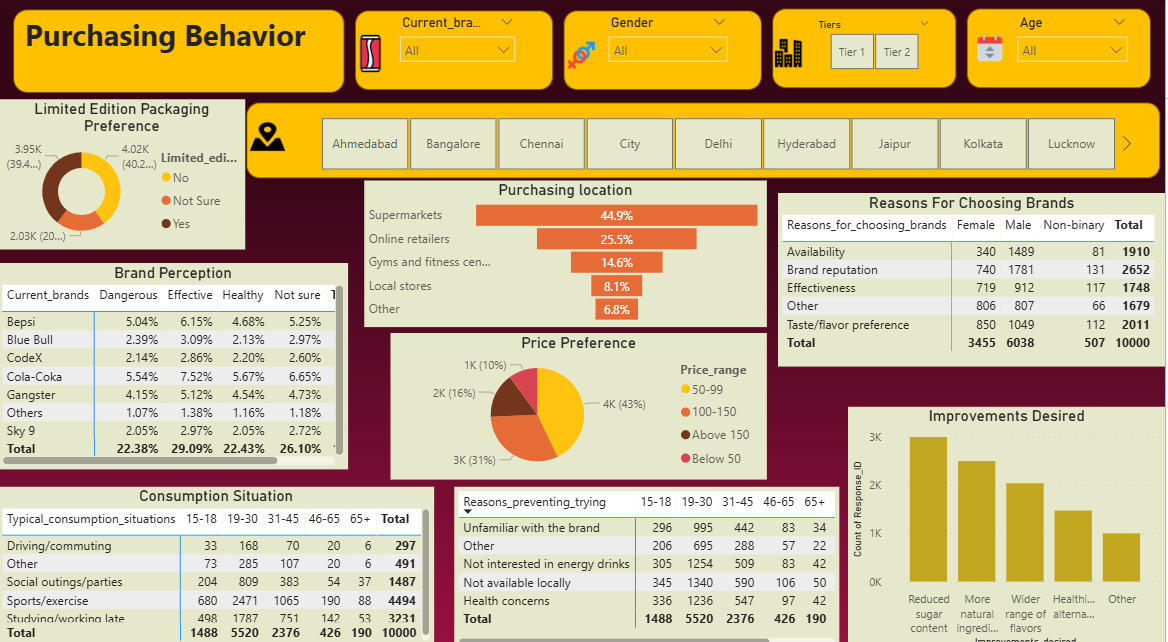

This screenshot's page, from the dashboard's own definition file:
{"tool":"powerbi","page":{"name":"Purchasing Behavior","canvas":[1280,720],"ordinal":3},"visuals":[{"type":"textbox","box":[24.7,13.7,334.5,76.8],"z":0},{"type":"slicer","fields":{"Values":["fact_survey_responses.Current_brands"]},"box":[430.5,13.7,146.7,76.8],"z":1000},{"type":"slicer","fields":{"Values":["dim_repondents.Gender"]},"box":[659.5,13.7,150.8,76.8],"z":2000},{"type":"slicer","fields":{"Values":["dim_repondents.Age"]},"box":[1107.8,13.7,141.2,76.8],"z":3000},{"type":"slicer","fields":{"Values":["dim_cities.Column3"]},"box":[887.1,17.8,146.7,67.2],"z":4000},{"type":"slicer","fields":{"Values":["dim_cities.Column2"]},"box":[329.1,124.8,920,69.9],"z":5000},{"type":"funnel","title":"Purchasing location","fields":{"Category":["fact_survey_responses.Purchase_location"],"Y":["CountNonNull(fact_survey_responses.Response_ID)"]},"box":[401.7,200.2,441.5,160.4],"z":6000},{"type":"pieChart","title":"Price Preference","fields":{"Category":["dim_repondents.Age","fact_survey_responses.Price_range"],"Y":["CountNonNull(fact_survey_responses.Response_ID)"]},"box":[430.5,367.4,412.7,160.4],"z":7000},{"type":"pivotTable","title":"Consumption Situation","fields":{"Rows":["fact_survey_responses.Typical_consumption_situations"],"Columns":["dim_repondents.Age"],"Values":["CountNonNull(fact_survey_responses.Response_ID)"]},"box":[0,536.1,478.5,174.1],"z":8000},{"type":"donutChart","title":"Limited Edition Packaging  Preference","fields":{"Y":["CountNonNull(fact_survey_responses.Response_ID)"],"Series":["fact_survey_responses.Limited_edition_packaging"]},"box":[0,111.1,271.5,164.5],"z":9000},{"type":"pivotTable","title":"Reasons For Choosing Brands","fields":{"Rows":["fact_survey_responses.Reasons_for_choosing_brands"],"Columns":["dim_repondents.Gender"],"Values":["CountNonNull(fact_survey_responses.Response_ID)"]},"box":[855.5,213.9,425,190.6],"z":10000},{"type":"columnChart","title":"Improvements Desired","fields":{"Category":["fact_survey_responses.Improvements_desired"],"Y":["Count(fact_survey_responses.Response_ID)"]},"box":[932.3,448.3,348.2,268.7],"z":11000},{"type":"pivotTable","fields":{"Rows":["fact_survey_responses.Reasons_preventing_trying"],"Columns":["dim_repondents.Age"],"Values":["CountNonNull(fact_survey_responses.Response_ID)"]},"box":[500.4,536.1,422.3,179.6],"z":12000},{"type":"pivotTable","title":"Brand Perception","fields":{"Rows":["fact_survey_responses.Current_brands"],"Columns":["fact_survey_responses.General_perception"],"Values":["fact_survey_responses.% of Visible Total"]},"box":[0,290.7,383.9,226.2],"z":13000}]}

Visuals, with their boxes in screenshot pixels (x1, y1, x2, y2), scaled from the page's 1280x720 canvas onto the 1168x642 screenshot:
textbox: Rect(23, 12, 328, 81)
slicer - fact_survey_responses.Current_brands: Rect(393, 12, 527, 81)
slicer - dim_repondents.Gender: Rect(602, 12, 739, 81)
slicer - dim_repondents.Age: Rect(1011, 12, 1140, 81)
slicer - dim_cities.Column3: Rect(809, 16, 943, 76)
slicer - dim_cities.Column2: Rect(300, 111, 1140, 174)
"Purchasing location" funnel: Rect(367, 179, 769, 322)
"Price Preference" pieChart: Rect(393, 328, 769, 471)
"Consumption Situation" pivotTable: Rect(0, 478, 437, 633)
"Limited Edition Packaging  Preference" donutChart: Rect(0, 99, 248, 246)
"Reasons For Choosing Brands" pivotTable: Rect(781, 191, 1167, 361)
"Improvements Desired" columnChart: Rect(851, 400, 1167, 639)
pivotTable - fact_survey_responses.Reasons_preventing_trying x dim_repondents.Age: Rect(457, 478, 842, 638)
"Brand Perception" pivotTable: Rect(0, 259, 350, 461)
